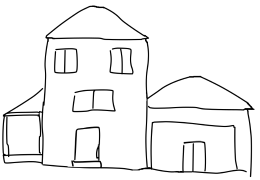big_house: (1, 1, 260, 180)
closed_window: (69, 84, 120, 117), (50, 42, 81, 80), (106, 41, 136, 77)
door: (68, 124, 111, 174), (175, 132, 211, 177)
roof: (135, 72, 258, 117), (37, 2, 156, 44)
wall: (39, 31, 157, 175), (142, 101, 253, 178)
